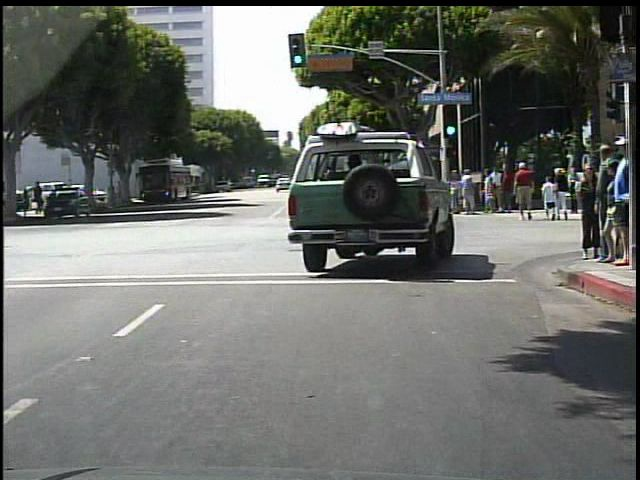person: (607, 135, 632, 264), (575, 154, 603, 264), (596, 143, 616, 262), (513, 162, 535, 223), (538, 173, 558, 224), (555, 166, 572, 222), (461, 165, 477, 216), (565, 166, 579, 218), (481, 169, 495, 213), (504, 168, 517, 215), (490, 166, 502, 210), (450, 167, 457, 215), (116, 181, 125, 208), (108, 181, 117, 204)
